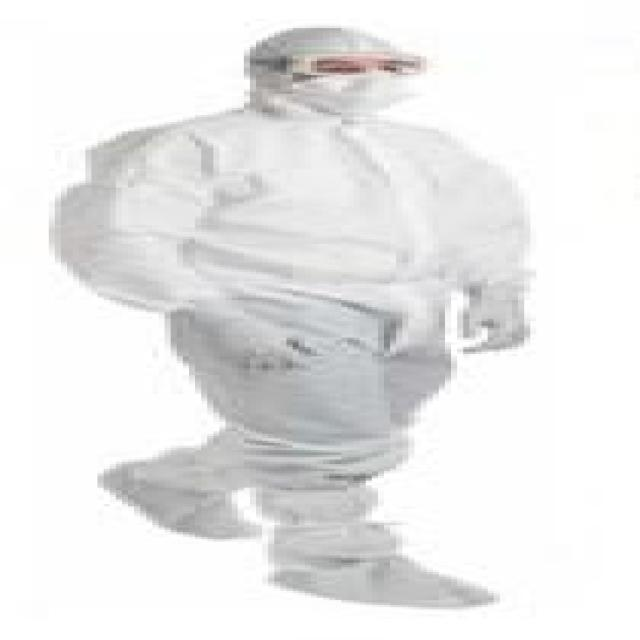Coverall: (37, 21, 585, 614)
Gloves: (189, 314, 329, 373), (445, 296, 530, 357)
Mask: (287, 66, 415, 115)
